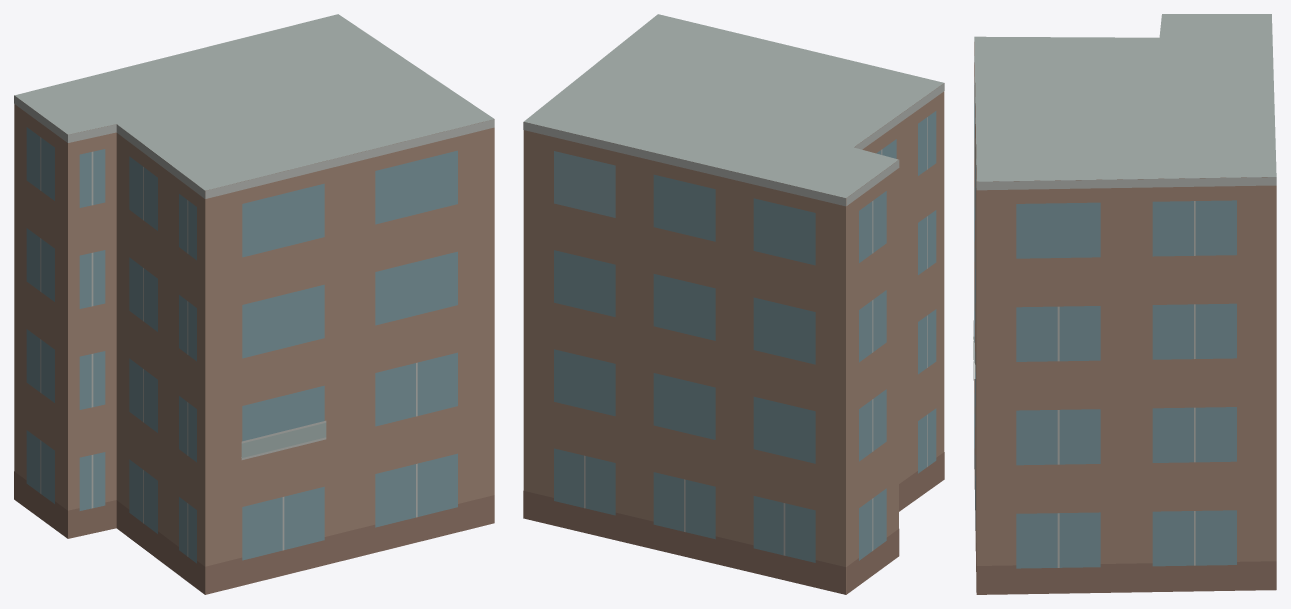
Rendered from survey-upis-33013809.glb.
3 views of the same model, side by side, from view 1: azimuth 30°, elevation 25°; view 2: azimuth 150°, elevation 25°; view 3: azimuth 270°, elevation 25° (orthographic). The views are drawn at different scales.
Parts seen in each view (by area): view 1: survey-upis-33013809.tmp; view 2: survey-upis-33013809.tmp; view 3: survey-upis-33013809.tmp.
Boxes of the visible parts, left/top/right/bottom form: survey-upis-33013809.tmp: left=14, top=14, right=494, bottom=594; survey-upis-33013809.tmp: left=523, top=14, right=944, bottom=594; survey-upis-33013809.tmp: left=973, top=14, right=1276, bottom=594.
Size of the model in its own units: 10.2 by 11.7 by 7.79.
